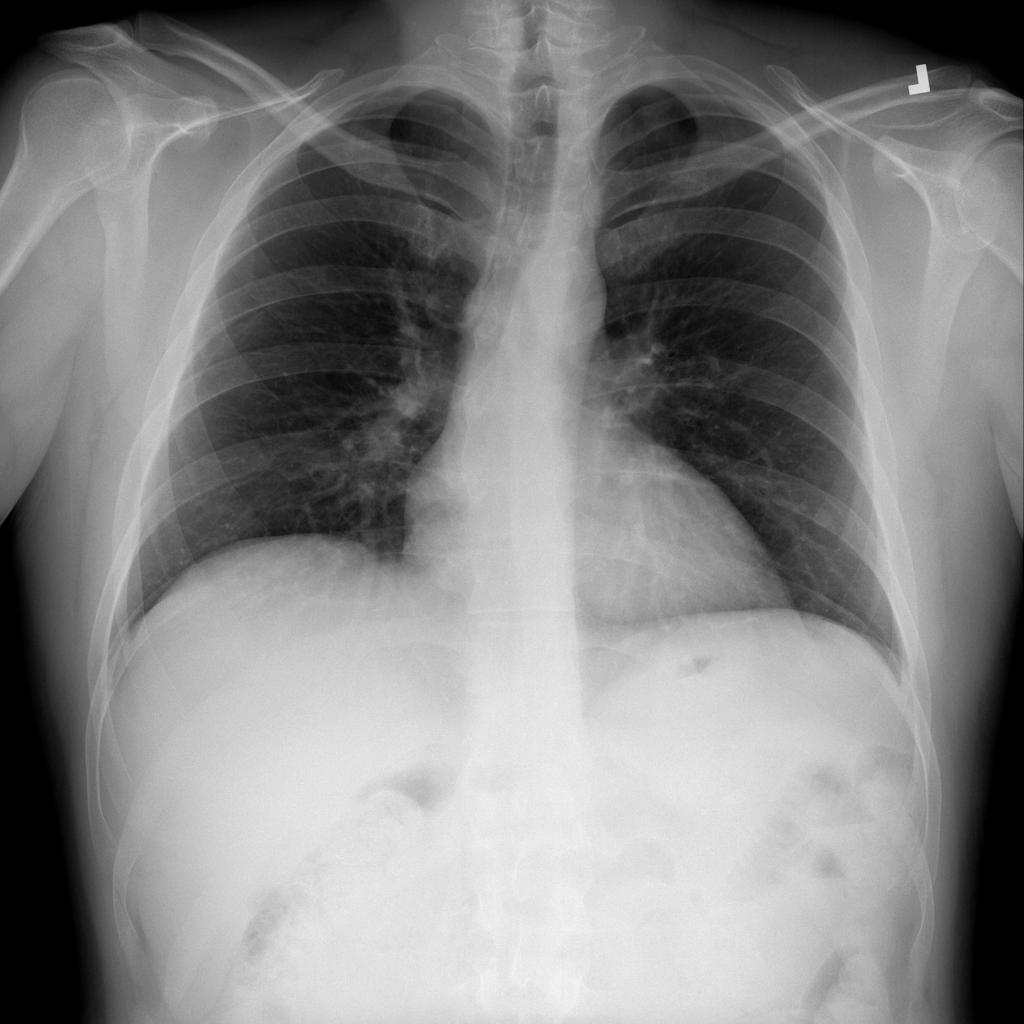nodule: (804, 493, 853, 549)
